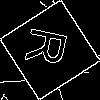R: (25, 25, 77, 70)
